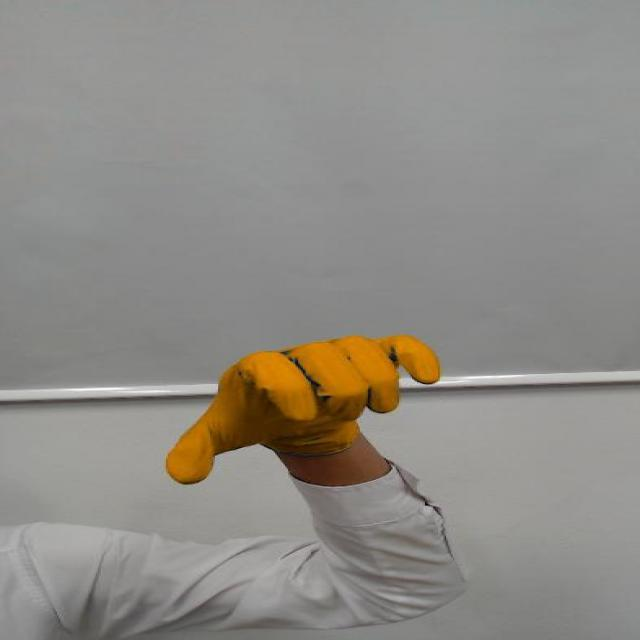Glove: (110, 323, 496, 500)
